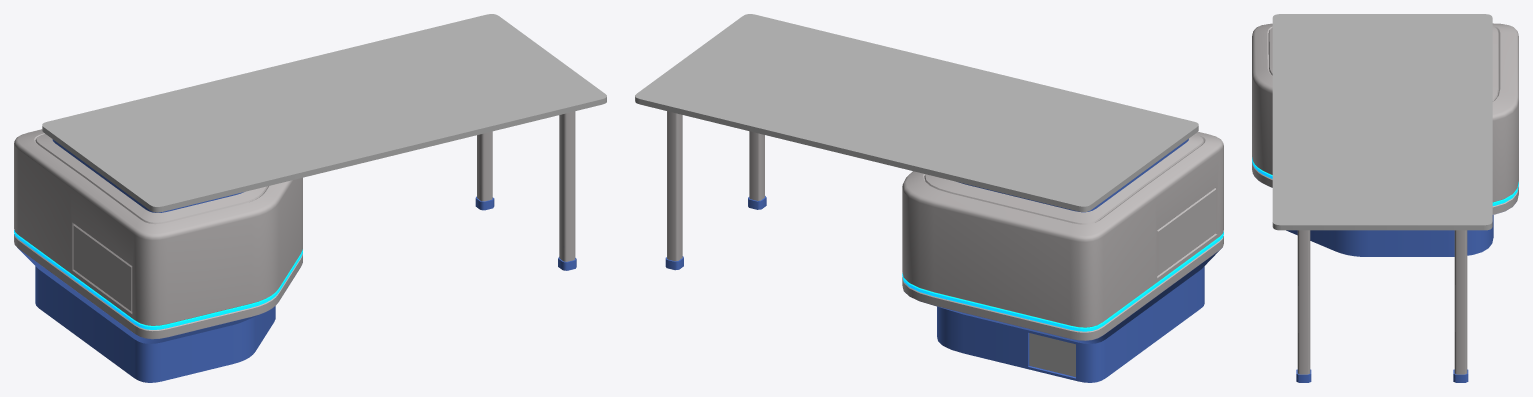
Rendered from LabDeskB1.fbx.
The picture shows the model from 3 angles, left to right: view 1: azimuth 30°, elevation 25°; view 2: azimuth 150°, elevation 25°; view 3: azimuth 270°, elevation 25°; orthographic projection. The views are drawn at different scales.
Visible parts, largest first — view 1: LabDeskB1; view 2: LabDeskB1; view 3: LabDeskB1.
Part boxes in pixels (x1,y1,x2,y2): LabDeskB1: (14,14,606,382); LabDeskB1: (635,14,1223,382); LabDeskB1: (1252,14,1518,382).
Bounding box in the file's own units: 228 × 80.55 × 117.
